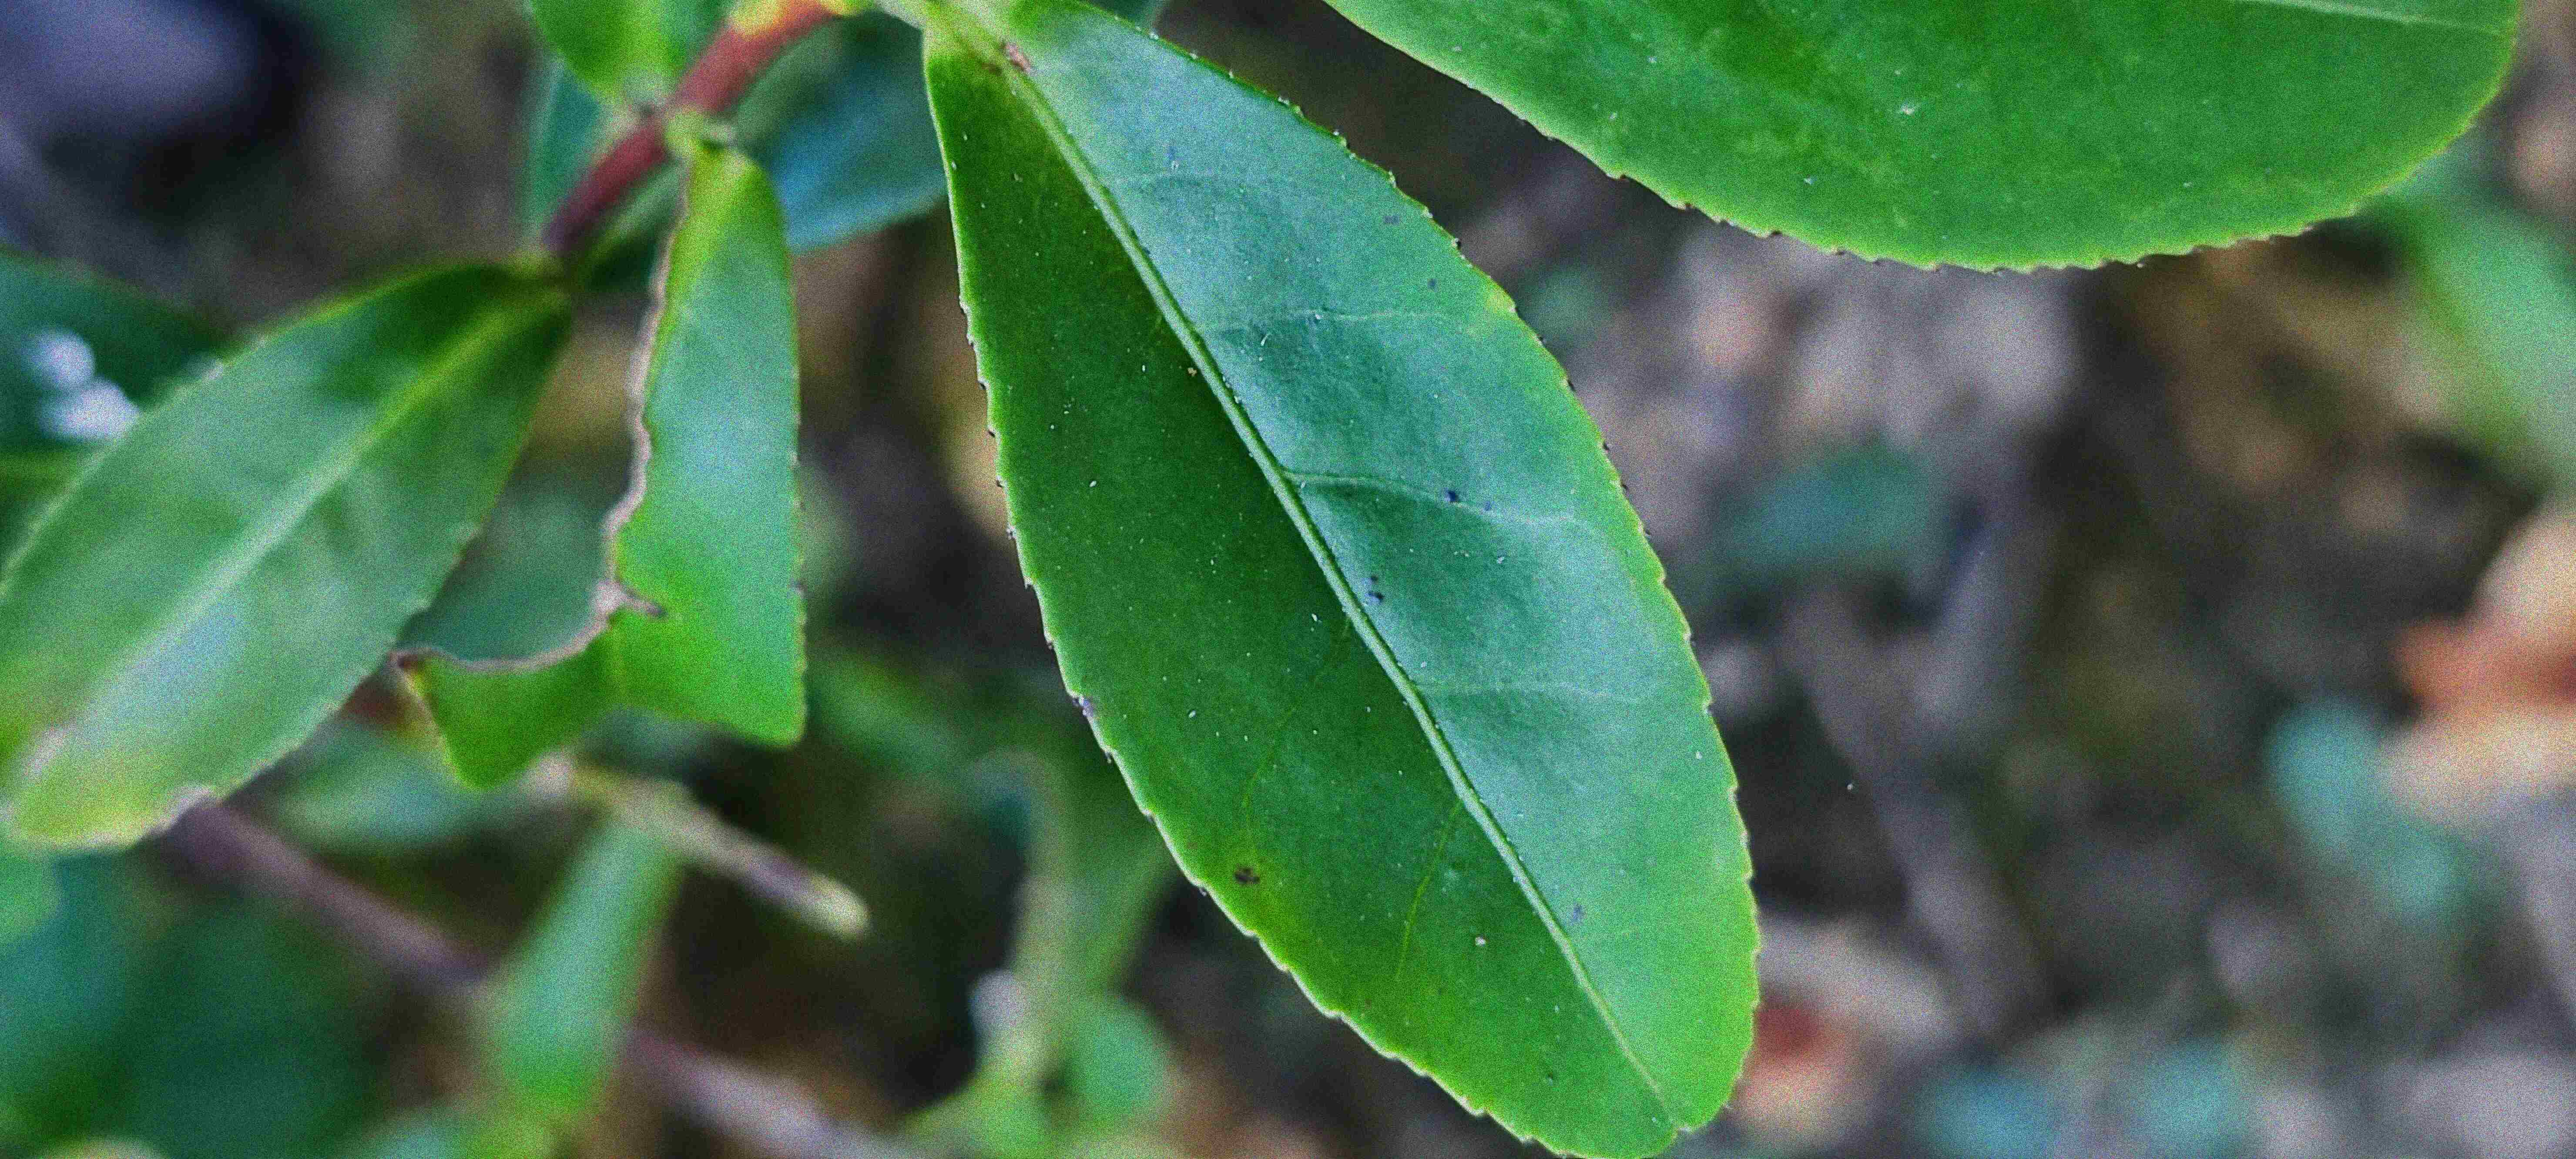chihuo_high: (383, 131, 812, 791)
healthy: (1327, 7, 2530, 274)
tanju_low: (922, 2, 1769, 1159), (0, 261, 572, 859)
